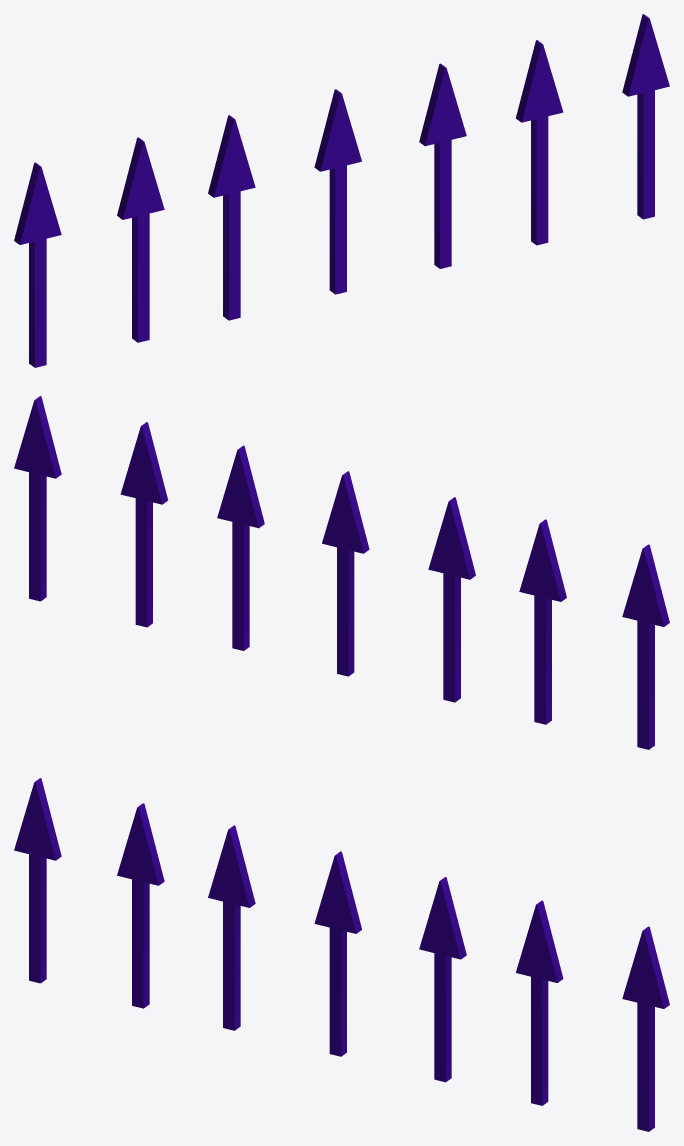
Rendered from arows.fbx.
The picture shows the model from 3 angles, top to bottom: view 1: azimuth 30°, elevation 25°; view 2: azimuth 150°, elevation 25°; view 3: azimuth 330°, elevation 25°; orthographic projection.
Parts seen in each view (by area): view 1: arows1; view 2: arows1; view 3: arows1.
Part boxes in pixels (left/top/right/bottom): arows1: left=14, top=14, right=669, bottom=367; arows1: left=14, top=396, right=669, bottom=749; arows1: left=14, top=778, right=669, bottom=1131.
Size of the model in its own units: 329 by 96.5 by 5.15.
